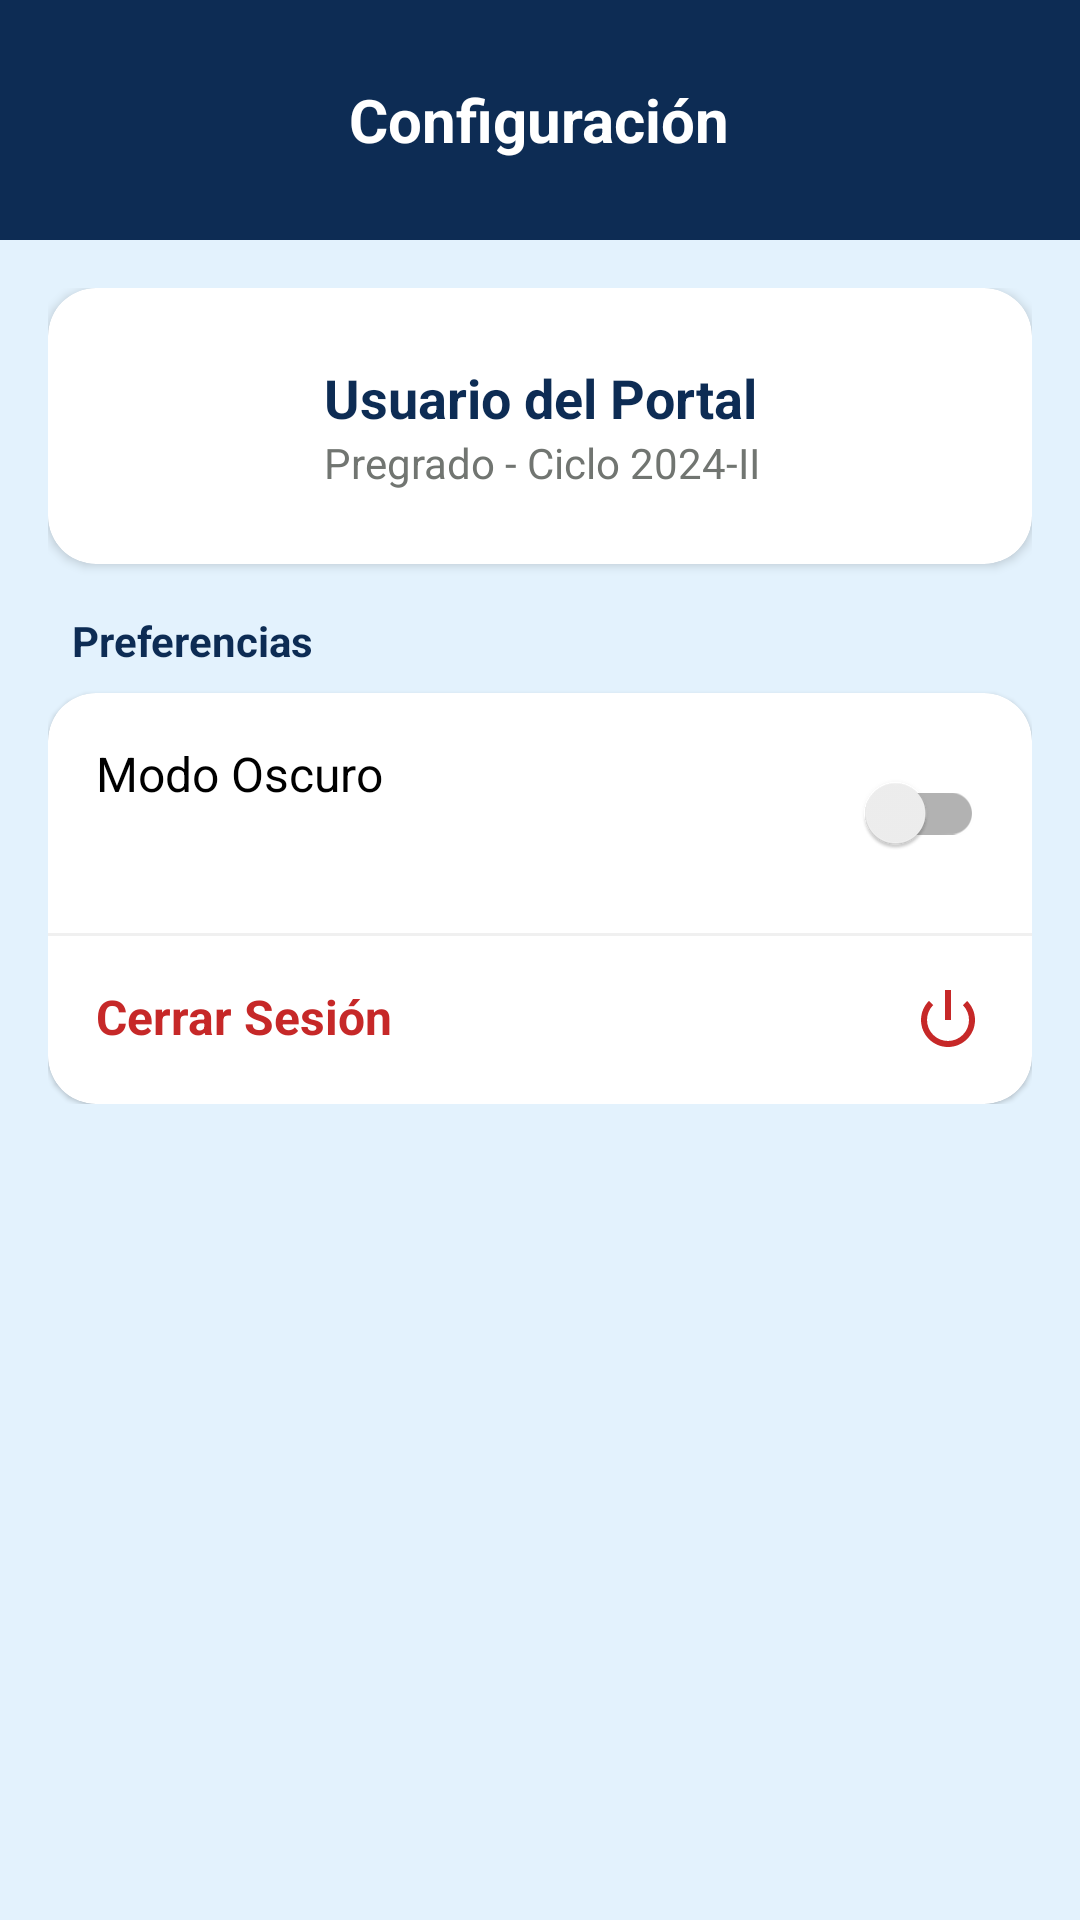

Where to tap for icons on this 1080 x 1920 app screen, as (x=x, y=y):
lock power off: (x=948, y=1018)
